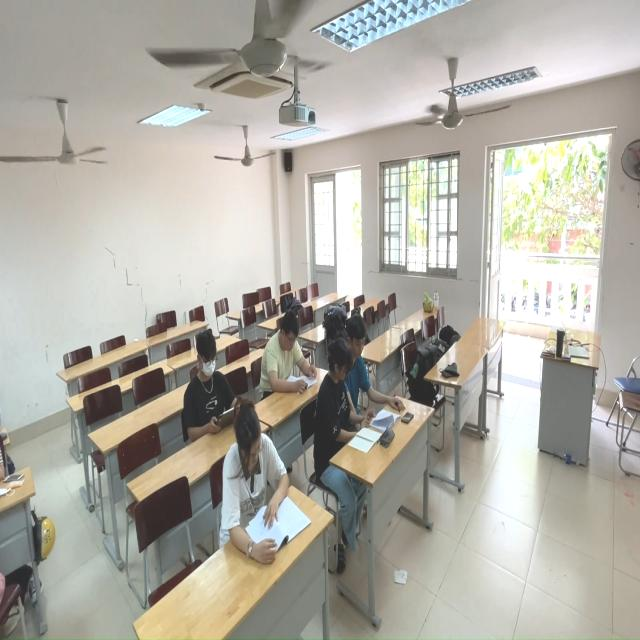read: (221, 402, 311, 563), (315, 338, 364, 479), (341, 314, 408, 417), (184, 334, 243, 437), (260, 311, 321, 395)
